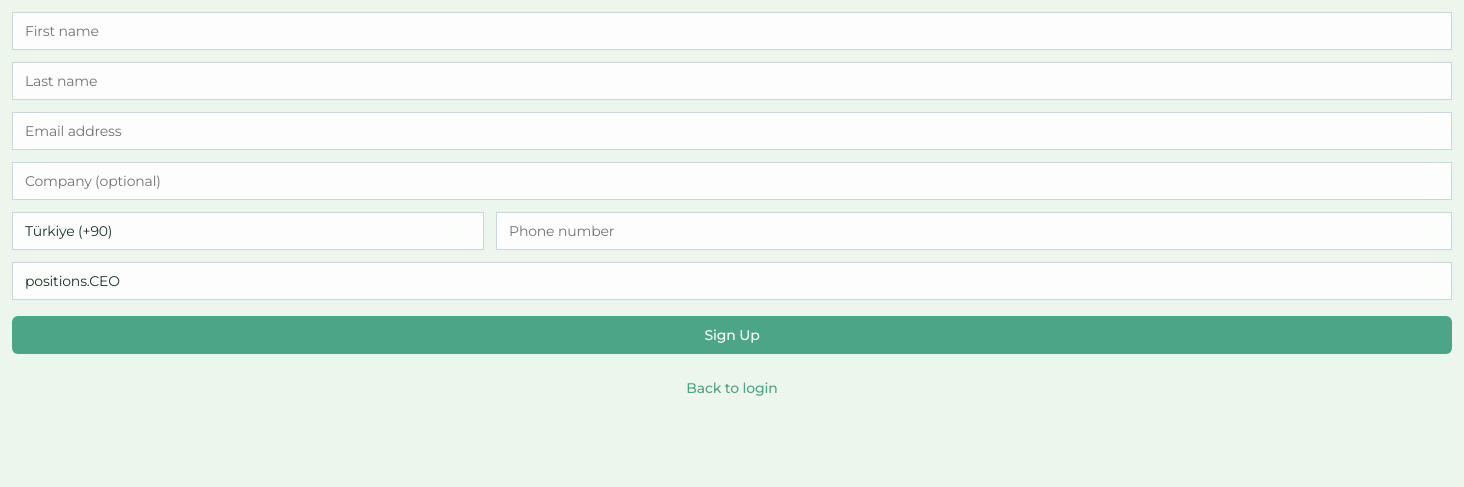
Test: SignupForm › displays conflict error message and retries sending the code
The width and height of the screenshot is (1464, 487).
In the field with placeholder "First name": (732, 31) [12,12,1452,50], type "John"
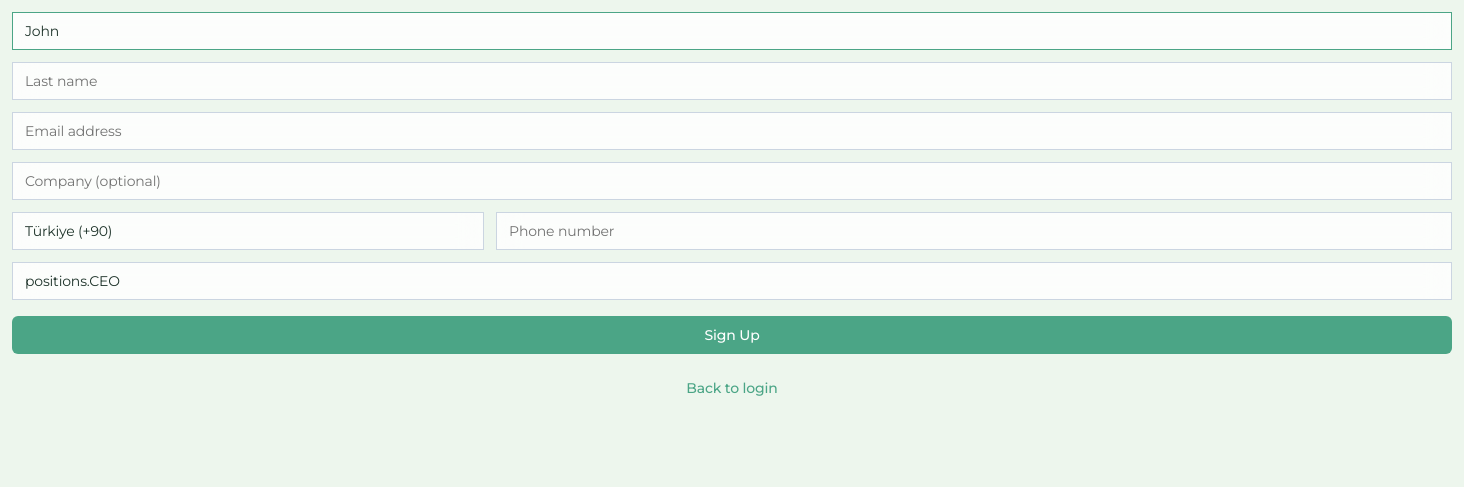
In the field with placeholder "Last name": (732, 81) [12,62,1452,100], type "Doe"
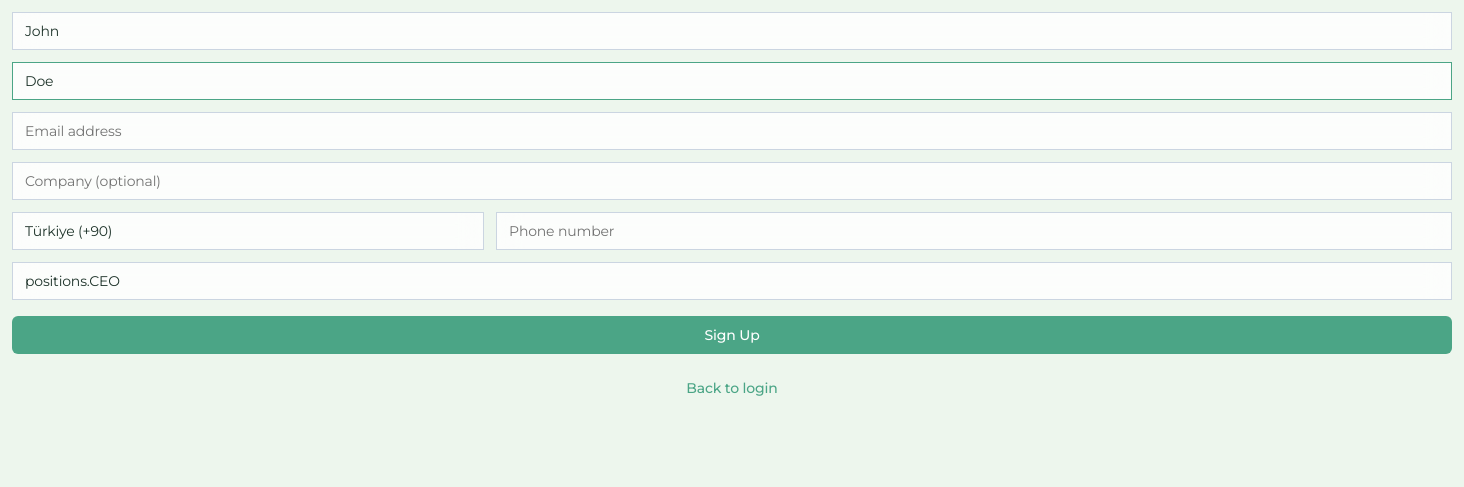
In the field with placeholder "Email address": (732, 131) [12,112,1452,150], type "john@example.com"
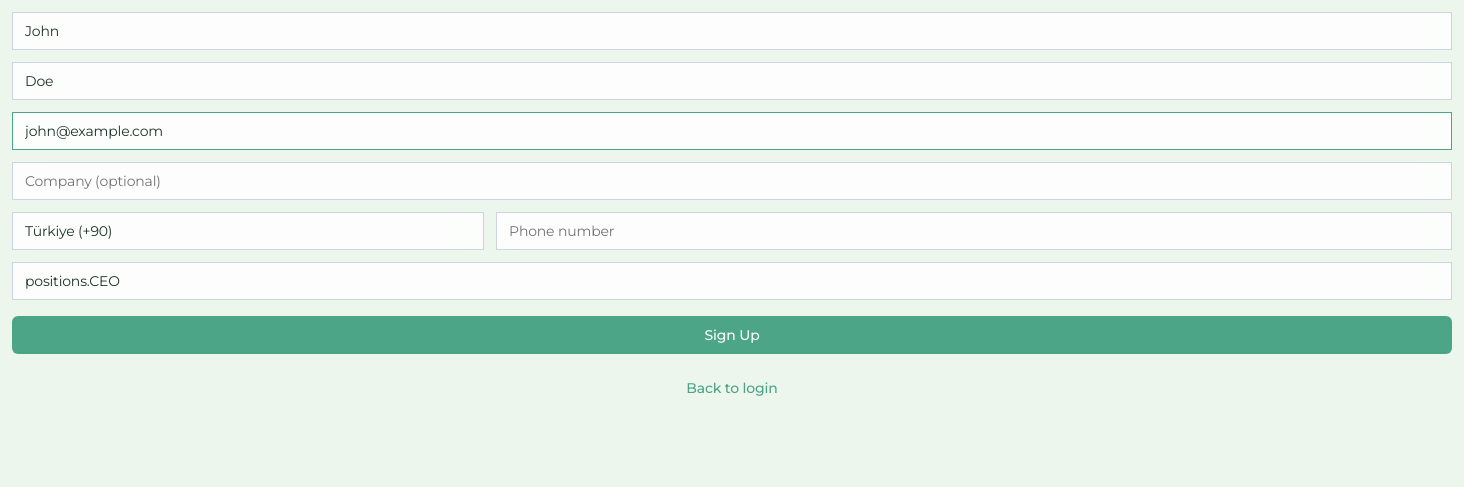
In the field with placeholder "Phone number": (974, 231) [496,212,1452,250], type "5551234"
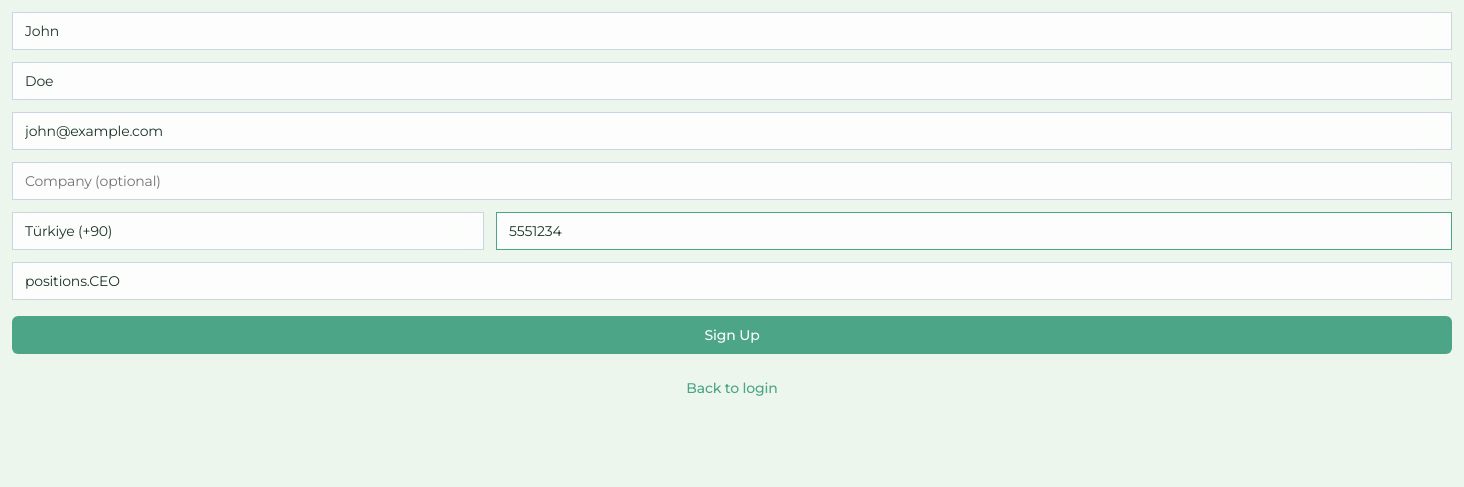
Click the button "Sign Up": (732, 335) [12,316,1452,354]
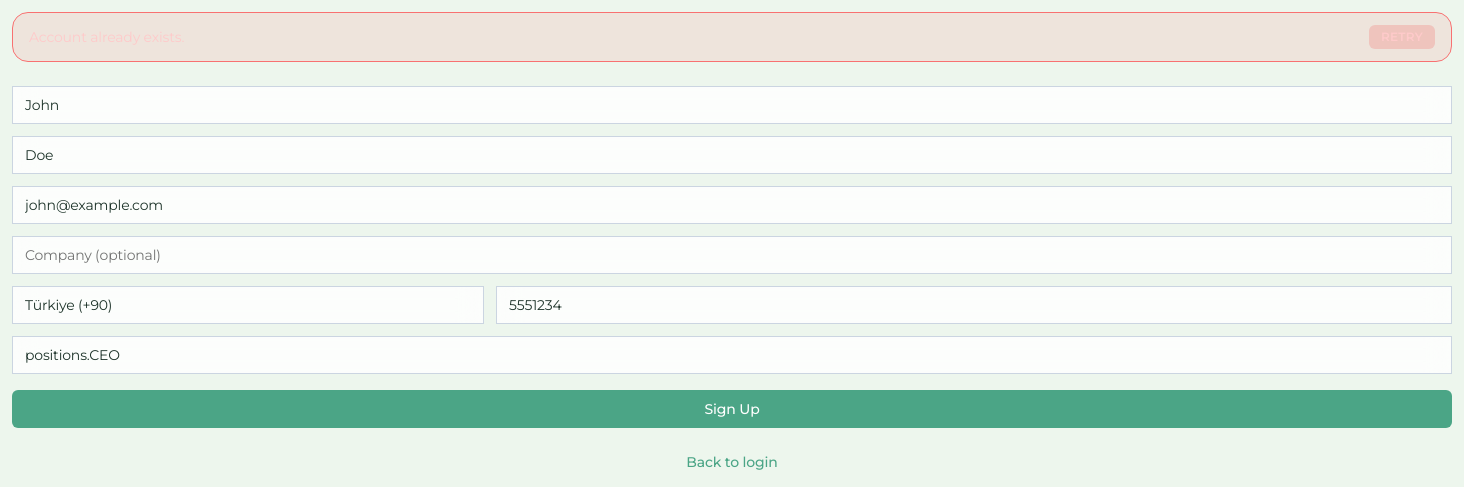
expect the text "Account already exists." is shown: met, box [29,27,184,47]
Click the button "Retry": (1402, 37) [1369,25,1435,49]
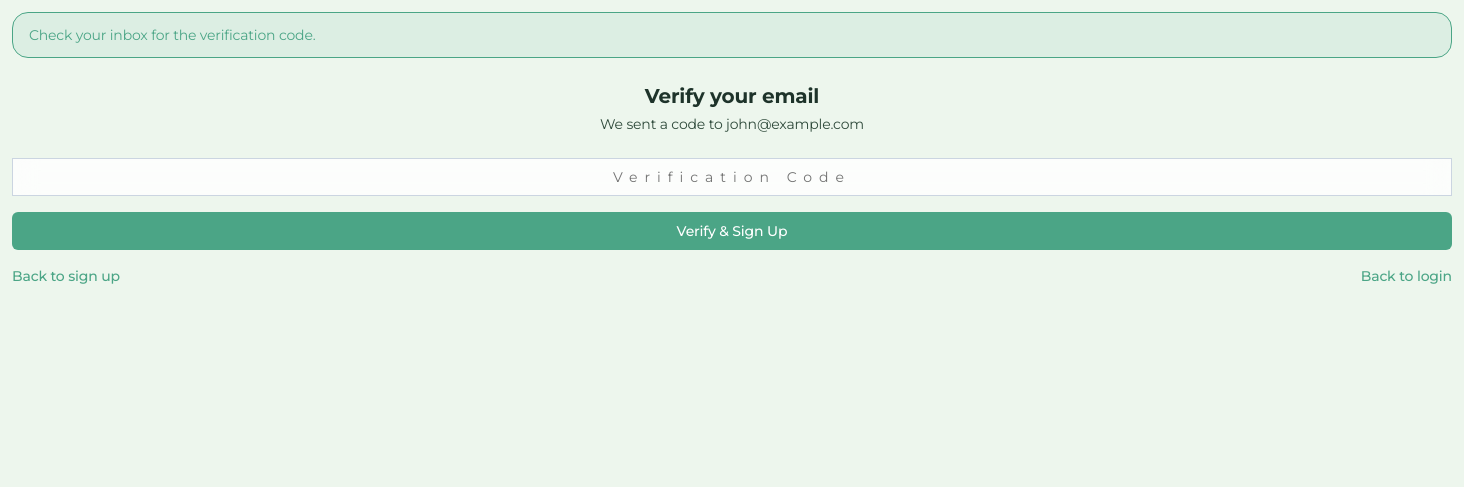
expect the field with placeholder "Verification Code" is shown: met, box [12,158,1452,196]
